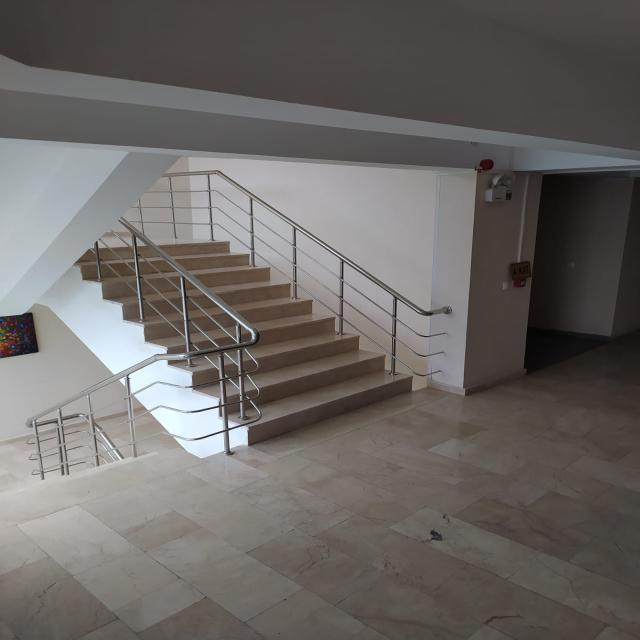stair: (78, 246, 424, 438)
